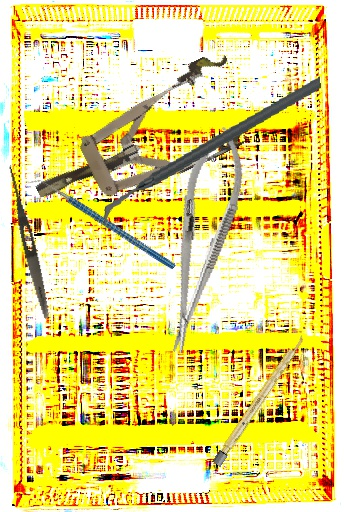Chopper: (89, 74, 335, 228), (24, 140, 177, 308)
Dressing Forceps: (2, 163, 54, 320)
Needle Holder: (148, 119, 256, 359)
Scalpel Handle: (212, 332, 307, 468)
Speculum: (16, 47, 264, 235)
